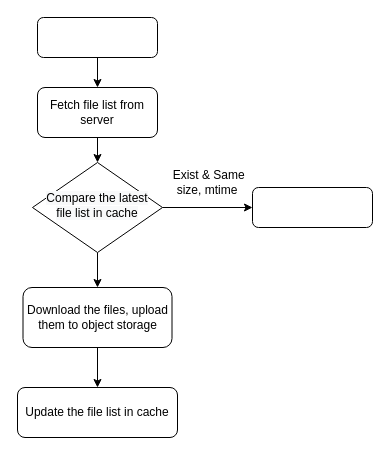
The diagram is 390 pixels wide and 455 high, and some of its shapes have lost their labels. The centre of each missing label's shape, as x and y in pixels:
Handshake: the point at 97,37
Skip: the point at 312,207
